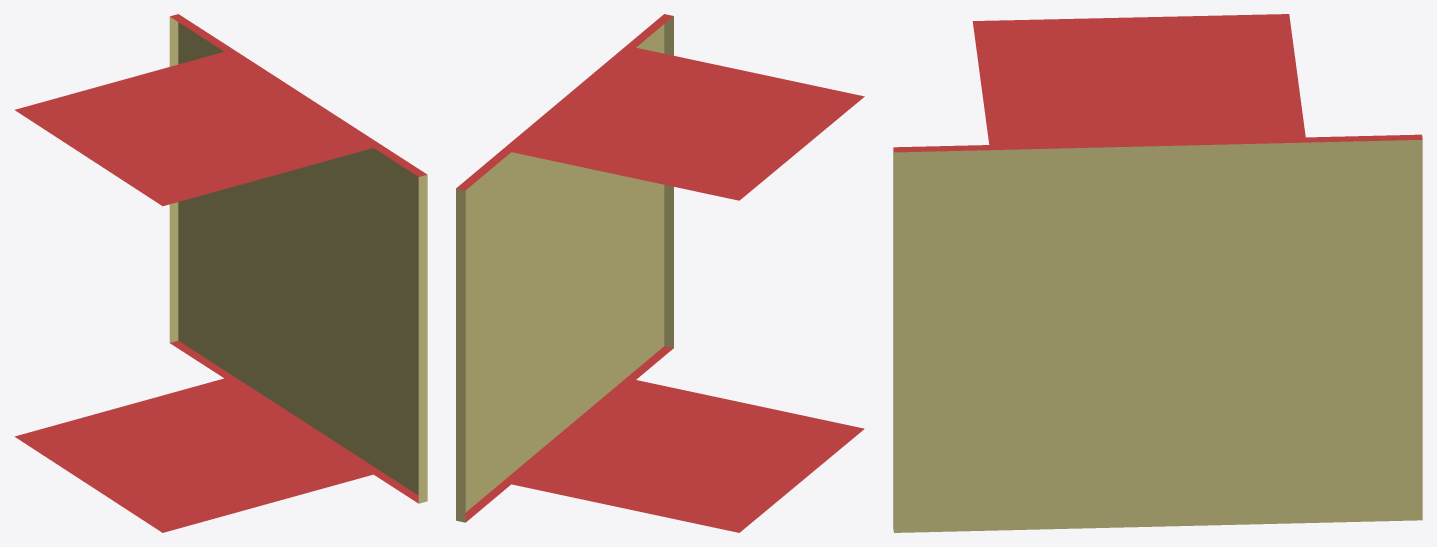
The picture shows the model from 3 angles, left to right: view 1: azimuth 30°, elevation 25°; view 2: azimuth 150°, elevation 25°; view 3: azimuth 270°, elevation 25°; orthographic projection. The views are drawn at different scales.
Bounding box in the file's own units: 6.65 × 10.74 × 8.52.
